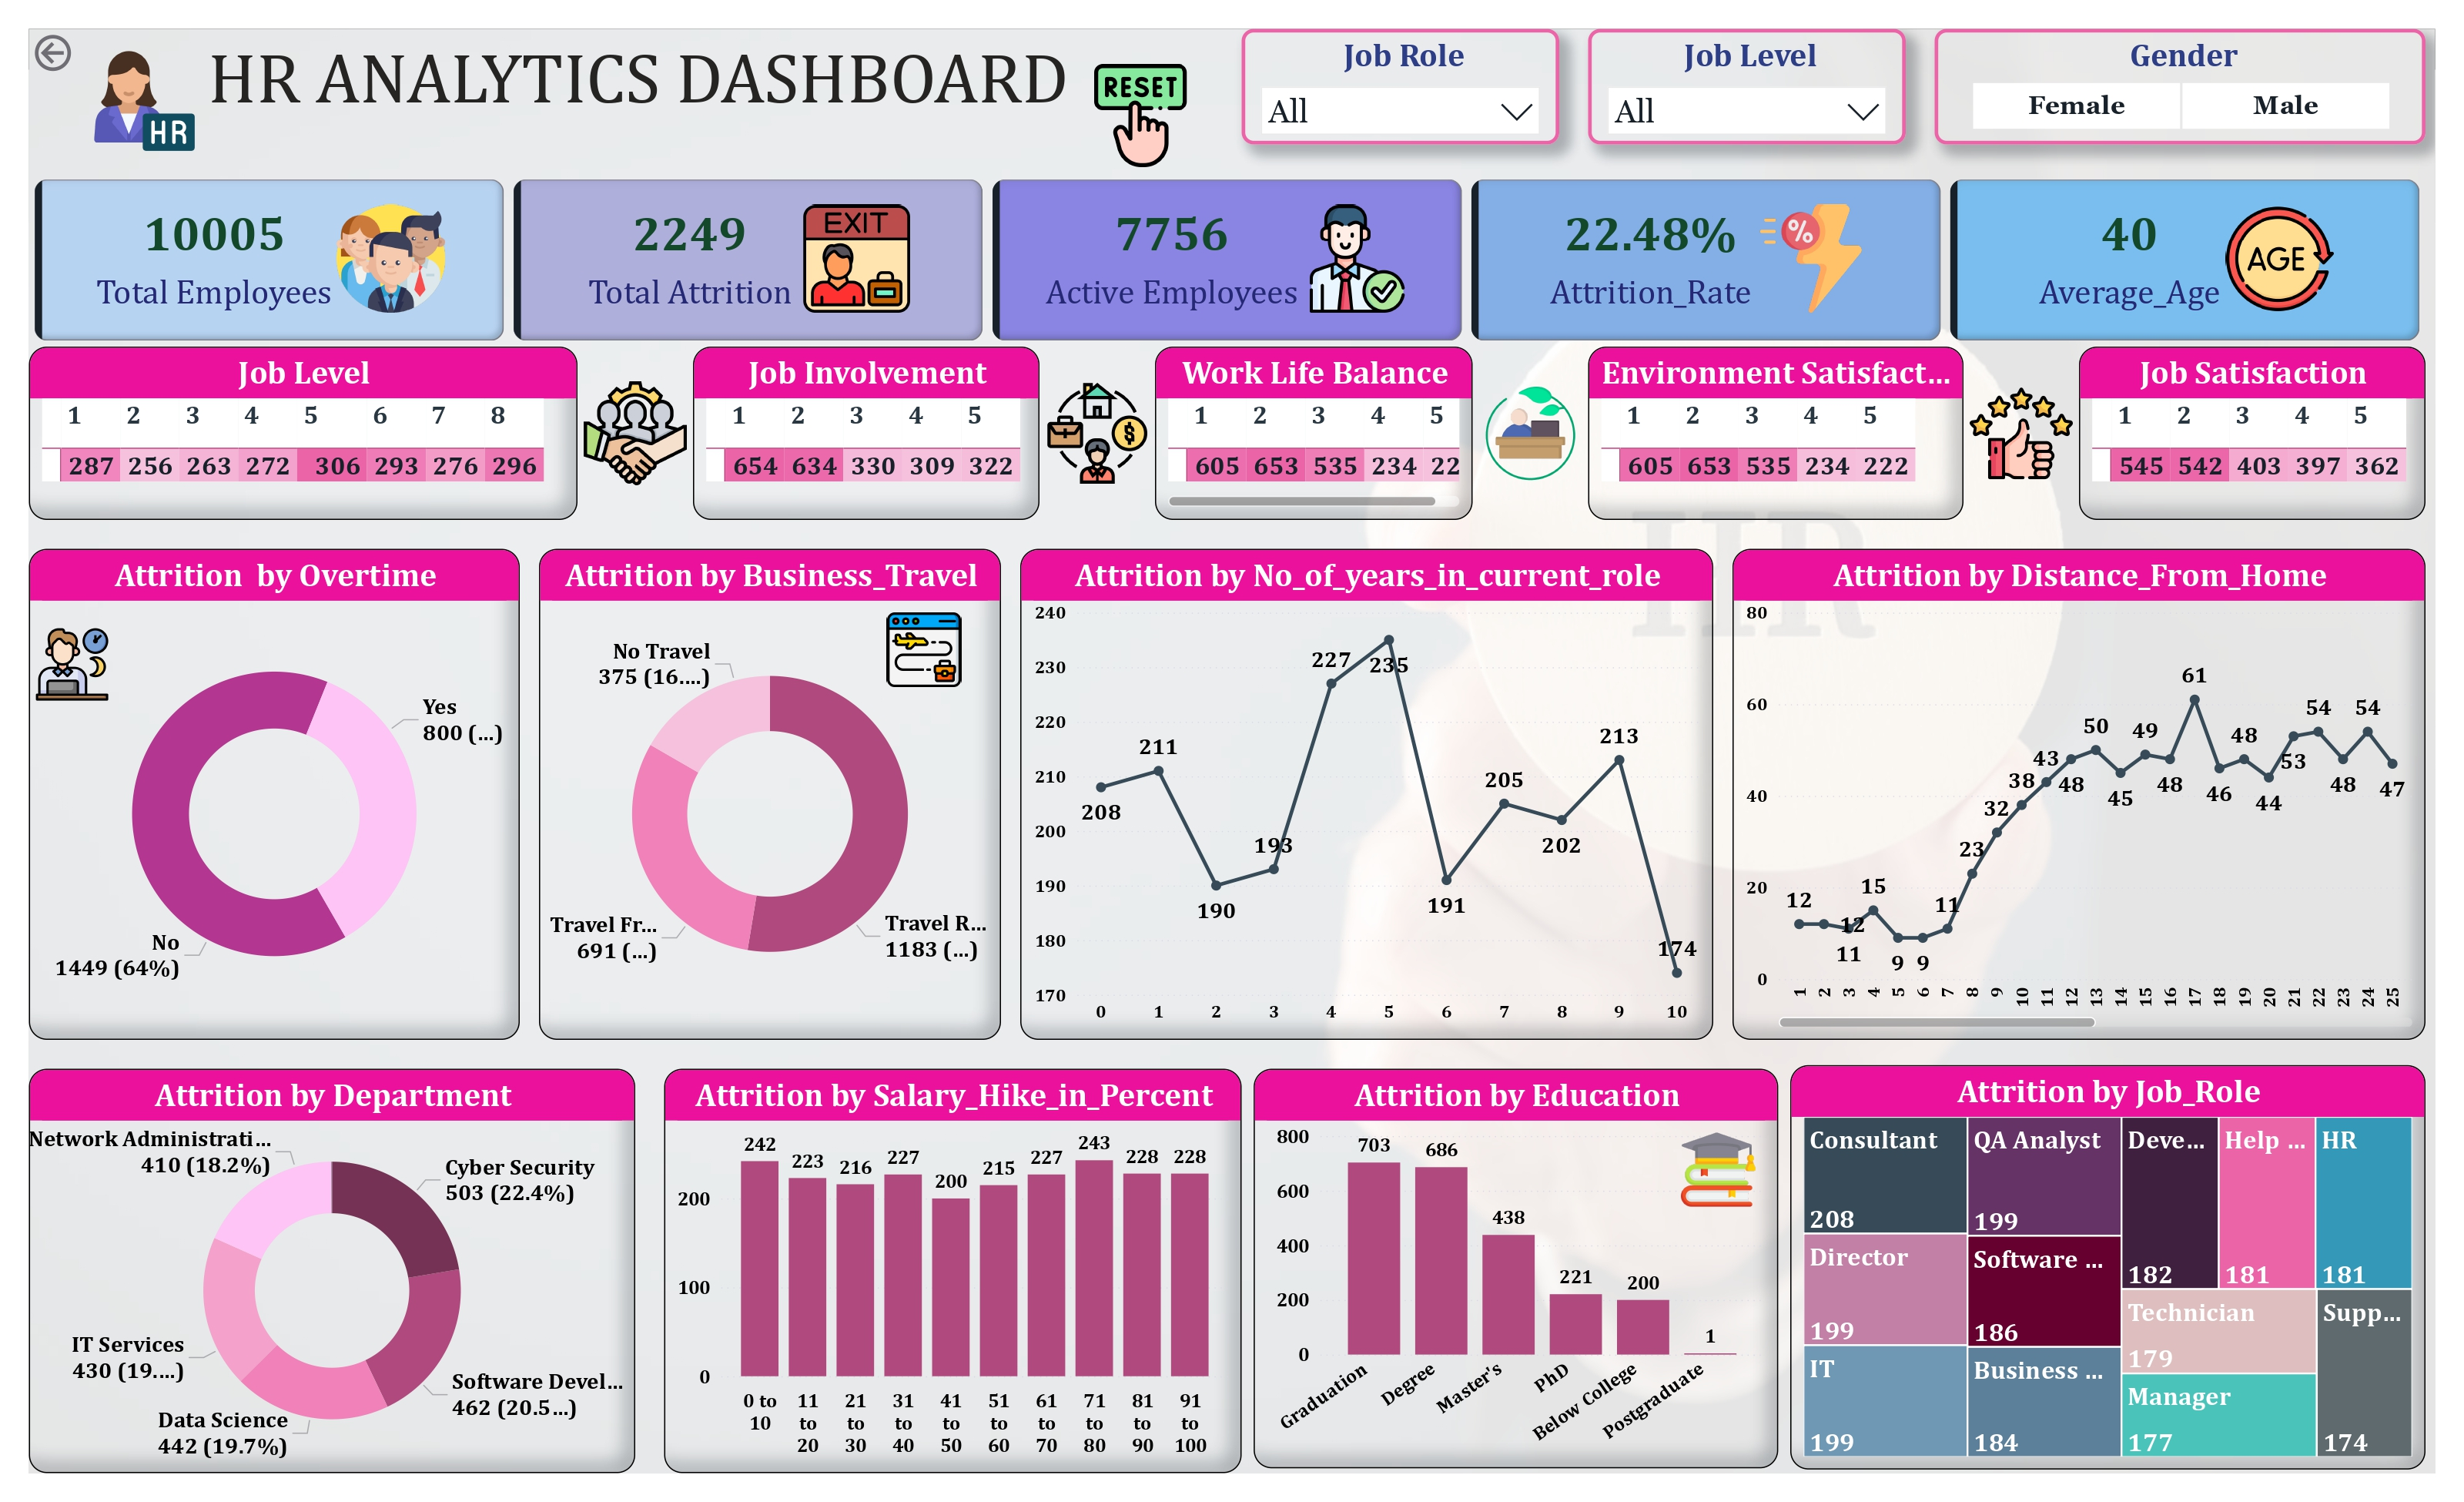

What the dashboard file says about the page in this screenshot:
{"tool":"powerbi","page":{"name":"Page 1","canvas":[2000,1200],"ordinal":0},"visuals":[{"type":"actionButton","box":[0,0,100,40],"z":0},{"type":"cardVisual","fields":{"Data":["CountNonNull(Employees.Employee_ID)","Employees.Attrition_Yes","Employees.Attrition_No","Employees.Attrition_Rate","Employees.Average_Age"]},"box":[0,120,1992,144],"z":1000},{"type":"donutChart","title":"Attrition by Department","fields":{"Category":["Employees.Department"],"Y":["Employees.Attrition_Yes"]},"box":[0,864,504,336],"z":2000},{"type":"treemap","title":"Attrition by Job_Role","fields":{"Values":["Employees.Attrition_Yes"],"Group":["Employees.Job_Role"]},"box":[1464,861.3,528,336],"z":3000},{"type":"lineChart","title":"Attrition by Distance_From_Home","fields":{"Category":["Employees.Distance_From_Home"],"Y":["Employees.Attrition_Yes"]},"box":[1416,432,576,408],"z":4000},{"type":"donutChart","title":"Attrition  by Overtime","fields":{"Category":["Employees.Overtime"],"Y":["Employees.Attrition_Yes"]},"box":[0,432,408,408],"z":5000},{"type":"pivotTable","title":"Job Satisfaction","fields":{"Columns":["Employees.Job_Satisfaction"],"Values":["Employees.Attrition_Yes"]},"box":[1704,264,288,144],"z":6000},{"type":"pivotTable","title":"Environment Satisfaction","fields":{"Values":["Employees.Attrition_Yes"],"Columns":["Employees.Environment_Satisfaction"]},"box":[1296,264,312,144],"z":7000},{"type":"pivotTable","title":"Work Life Balance","fields":{"Values":["Employees.Attrition_Yes"],"Columns":["Employees.Environment_Satisfaction"]},"box":[936,264,264,144],"z":8000},{"type":"donutChart","title":"Attrition by Business_Travel","fields":{"Category":["Employees.Business_Travel"],"Y":["Employees.Attrition_Yes"]},"box":[424,432,384,408],"z":9000},{"type":"lineChart","title":"Attrition by No_of_years_in_current_role","fields":{"Category":["Employees.No_of_years_in_current_role"],"Y":["Employees.Attrition_Yes"]},"box":[824,432,576,408],"z":10000},{"type":"columnChart","title":"Attrition by Salary_Hike_in_Percent","fields":{"Y":["Employees.Attrition_Yes"],"Category":["Employees.Salary_Hike_in_Percent (groups)"]},"box":[528,864,480,336],"z":11000},{"type":"columnChart","title":"Attrition by Education","fields":{"Y":["Employees.Attrition_Yes"],"Category":["Employees.Education"]},"box":[1018,864,436,332],"z":12000},{"type":"pivotTable","title":"Job Involvement","fields":{"Values":["Employees.Attrition_Yes"],"Columns":["Employees.Job_Involvement"]},"box":[552,264,288,144],"z":13000},{"type":"pivotTable","title":"Job  Level","fields":{"Values":["Employees.Attrition_Yes"],"Columns":["Employees.Job_Level"]},"box":[0,264,456,144],"z":14000},{"type":"textbox","box":[144,0,768,96],"z":15000},{"type":"image","box":[48,0,96,120],"z":16000},{"type":"image","box":[456,288,96,96],"z":17000},{"type":"image","box":[840,288,96,96],"z":18000},{"type":"image","box":[1200,288,96,96],"z":19000},{"type":"image","box":[1608,288,96,96],"z":20000},{"type":"image","box":[0,480,72,96],"z":21000},{"type":"image","box":[696,480,96,72],"z":22000},{"type":"image","box":[1344,912,120,72],"z":23000},{"type":"slicer","title":"Gender","fields":{"Values":["Employees.Gender"]},"box":[1584,0,408,96],"z":24000},{"type":"slicer","title":"Job Level","fields":{"Values":["Employees.Job_Level"]},"box":[1296,0,264,96],"z":24001},{"type":"slicer","title":"Job Role","fields":{"Values":["Employees.Job_Role"]},"box":[1008,0,264,96],"z":24002},{"type":"image","box":[864,24,120,96],"z":24003}]}

Visuals, with their boxes in screenshot pixels (x1, y1, x2, y2):
actionButton: <box>29,29,149,77</box>
cardVisual - CountNonNull(Employees.Employee_ID) x Employees.Attrition_Yes: <box>29,173,2425,347</box>
"Attrition by Department" donutChart: <box>29,1069,635,1473</box>
"Attrition by Job_Role" treemap: <box>1790,1065,2425,1470</box>
"Attrition by Distance_From_Home" lineChart: <box>1732,548,2425,1040</box>
"Attrition  by Overtime" donutChart: <box>29,548,520,1040</box>
"Job Satisfaction" pivotTable: <box>2079,347,2425,520</box>
"Environment Satisfaction" pivotTable: <box>1588,347,1963,520</box>
"Work Life Balance" pivotTable: <box>1155,347,1472,520</box>
"Attrition by Business_Travel" donutChart: <box>539,548,1001,1040</box>
"Attrition by No_of_years_in_current_role" lineChart: <box>1020,548,1713,1040</box>
"Attrition by Salary_Hike_in_Percent" columnChart: <box>664,1069,1241,1473</box>
"Attrition by Education" columnChart: <box>1254,1069,1778,1468</box>
"Job Involvement" pivotTable: <box>693,347,1039,520</box>
"Job  Level" pivotTable: <box>29,347,577,520</box>
textbox: <box>202,29,1126,145</box>
image: <box>86,29,202,173</box>
image: <box>577,376,693,491</box>
image: <box>1039,376,1155,491</box>
image: <box>1472,376,1588,491</box>
image: <box>1963,376,2079,491</box>
image: <box>29,607,115,723</box>
image: <box>866,607,982,693</box>
image: <box>1646,1126,1790,1213</box>
"Gender" slicer: <box>1934,29,2425,145</box>
"Job Level" slicer: <box>1588,29,1906,145</box>
"Job Role" slicer: <box>1241,29,1559,145</box>
image: <box>1069,58,1213,173</box>
